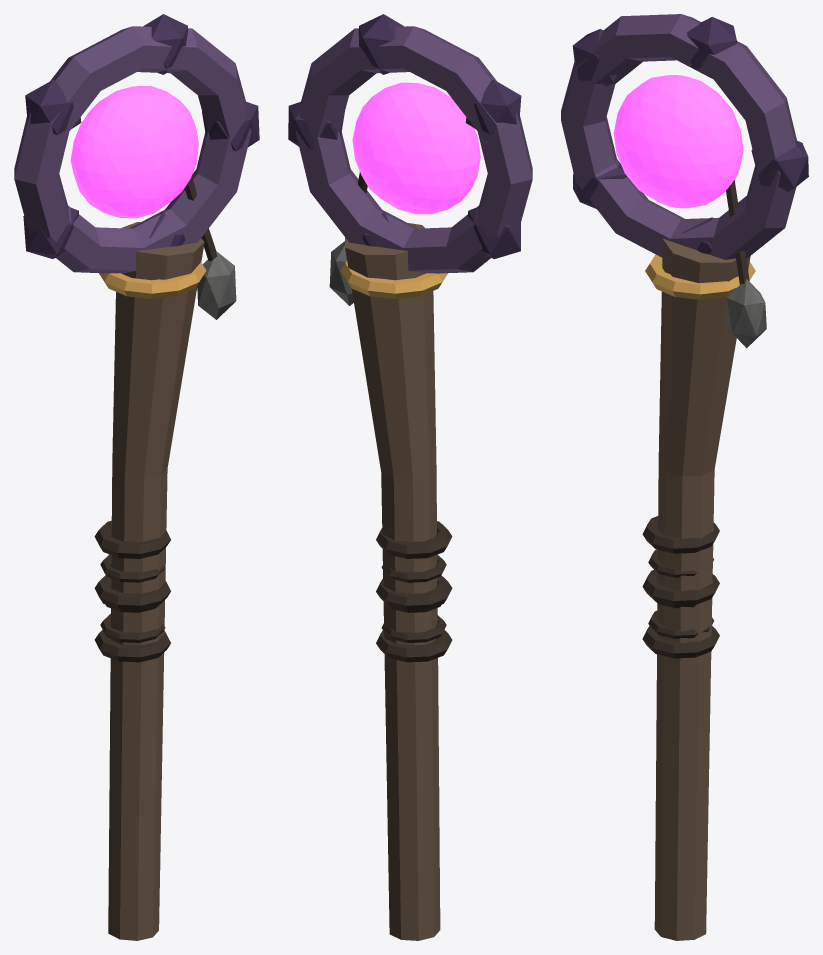
File: staff.glb
The picture shows the model from 3 angles, left to right: view 1: azimuth 30°, elevation 25°; view 2: azimuth 150°, elevation 25°; view 3: azimuth 330°, elevation 25°; orthographic projection.
Visible parts, largest first — view 1: Wizard staff shaft, Purple staff head, Glowing magic crystal, Staff gold collar, Woodland staff carved seed charm, Staff crystal prong.002, Staff grip bindings.002, Staff grip bindings.001, Staff grip bindings, Staff crystal prong.001, Staff crystal prong.003, Staff crystal prong (+2 smaller); view 2: Wizard staff shaft, Purple staff head, Glowing magic crystal, Staff gold collar, Staff crystal prong.002, Staff grip bindings.002, Staff grip bindings.001, Staff crystal prong.001, Staff grip bindings, Staff crystal prong.003, Staff crystal prong, Woodland staff carved seed charm (+2 smaller); view 3: Wizard staff shaft, Purple staff head, Glowing magic crystal, Woodland staff carved seed charm, Staff gold collar, Staff crystal prong, Staff crystal prong.001, Staff grip bindings.001, Staff grip bindings.002, Staff grip bindings, Staff crystal prong.002, Staff crystal prong.003 (+2 smaller).
Part boxes in pixels (bbox=[...]): Wizard staff shaft: bbox=[108, 222, 204, 940]; Purple staff head: bbox=[14, 26, 251, 273]; Glowing magic crystal: bbox=[70, 85, 198, 218]; Staff gold collar: bbox=[99, 262, 206, 298]; Woodland staff carved seed charm: bbox=[197, 251, 236, 319]; Staff crystal prong.002: bbox=[25, 80, 81, 135]; Staff grip bindings.002: bbox=[94, 520, 170, 558]; Staff grip bindings.001: bbox=[94, 575, 170, 610]; Staff grip bindings: bbox=[94, 630, 170, 662]; Staff crystal prong.001: bbox=[143, 14, 188, 74]; Staff crystal prong.003: bbox=[23, 207, 78, 258]; Staff crystal prong: bbox=[202, 101, 259, 151]; Wizard staff shaft: bbox=[345, 223, 440, 940]; Purple staff head: bbox=[295, 26, 532, 273]; Glowing magic crystal: bbox=[352, 82, 480, 214]; Staff gold collar: bbox=[340, 261, 447, 299]; Staff crystal prong.002: bbox=[465, 80, 521, 134]; Staff grip bindings.002: bbox=[376, 521, 452, 558]; Staff grip bindings.001: bbox=[376, 575, 452, 610]; Staff crystal prong.001: bbox=[358, 14, 404, 74]; Staff grip bindings: bbox=[376, 630, 452, 662]; Staff crystal prong.003: bbox=[467, 208, 520, 259]; Staff crystal prong: bbox=[288, 102, 344, 149]; Woodland staff carved seed charm: bbox=[329, 241, 353, 305]; Wizard staff shaft: bbox=[654, 238, 750, 940]; Purple staff head: bbox=[561, 14, 796, 259]; Glowing magic crystal: bbox=[613, 75, 743, 208]; Woodland staff carved seed charm: bbox=[726, 278, 766, 348]; Staff gold collar: bbox=[645, 254, 755, 299]; Staff crystal prong: bbox=[751, 140, 808, 191]; Staff crystal prong.001: bbox=[687, 17, 737, 68]; Staff grip bindings.001: bbox=[642, 570, 719, 605]; Staff grip bindings.002: bbox=[642, 516, 719, 553]; Staff grip bindings: bbox=[642, 626, 719, 658]; Staff crystal prong.002: bbox=[572, 29, 619, 86]; Staff crystal prong.003: bbox=[573, 163, 626, 208].
Bounding box in the file's own units: 0.5925 × 2.11 × 0.23.
Materials: 7 (1 with a texture image).
